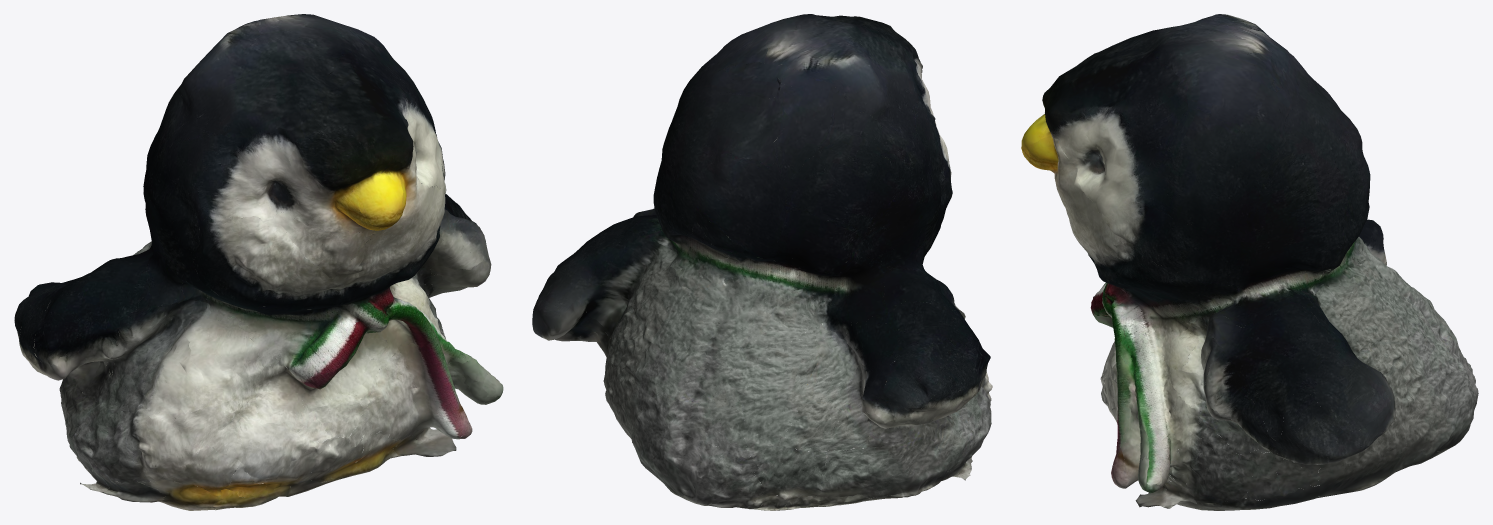
Rendered from asset.glb.
The picture shows the model from 3 angles, left to right: view 1: azimuth 30°, elevation 25°; view 2: azimuth 150°, elevation 25°; view 3: azimuth 270°, elevation 25°; orthographic projection. The views are drawn at different scales.
Visible parts, largest first — view 1: Mesh_0; view 2: Mesh_0; view 3: Mesh_0.
Part boxes in pixels (bbox=[...]): Mesh_0: bbox=[14, 14, 503, 510]; Mesh_0: bbox=[532, 14, 992, 510]; Mesh_0: bbox=[1021, 14, 1478, 510].
Size of the model in its own units: 0.6644 by 0.6065 by 0.5965.
Materials: 1 (1 with a texture image).
